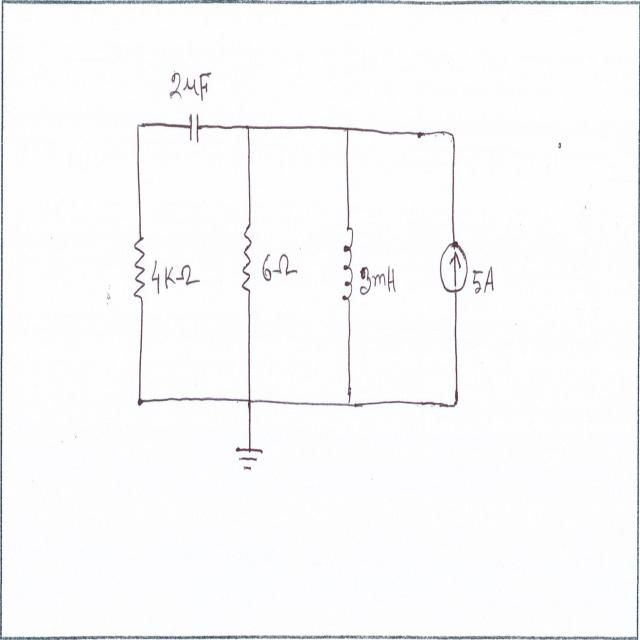capacitor: (188, 105, 202, 146)
current_source: (438, 233, 470, 297)
ground: (235, 439, 265, 479)
inductor: (342, 222, 358, 304)
resistor: (131, 230, 148, 304), (240, 222, 254, 304)
